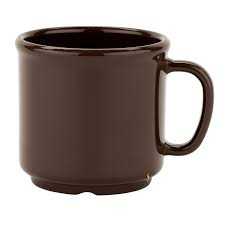mug: (10, 20, 219, 198)
